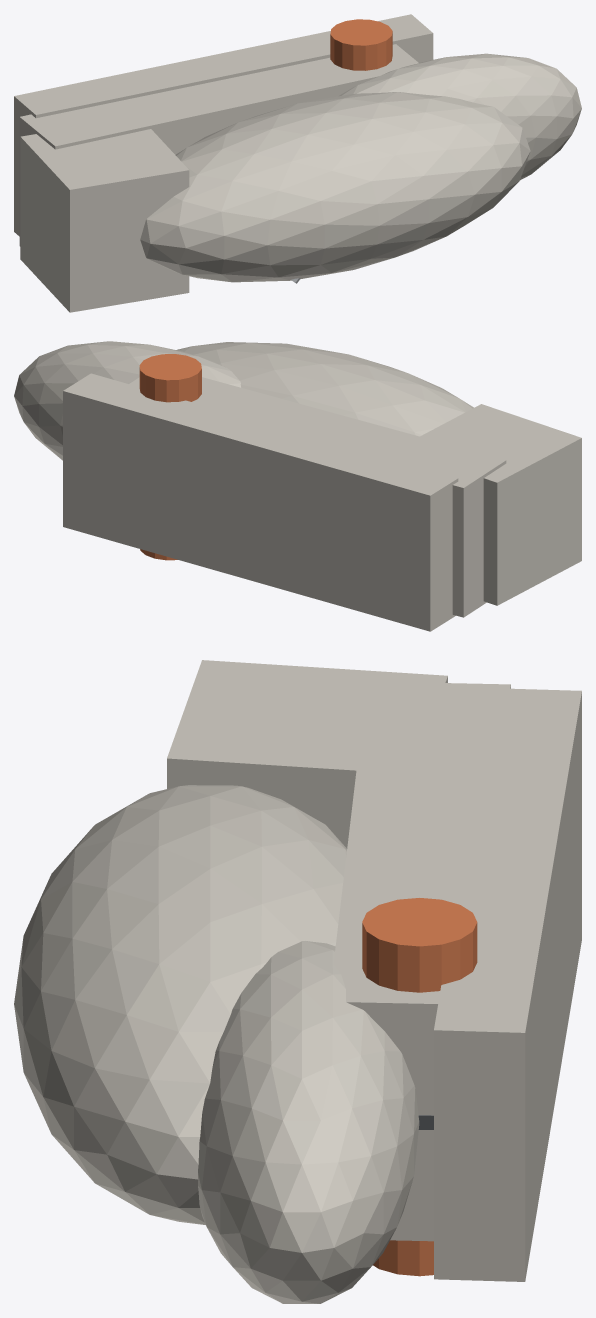
The picture shows the model from 3 angles, top to bottom: view 1: azimuth 30°, elevation 25°; view 2: azimuth 150°, elevation 25°; view 3: azimuth 270°, elevation 25°; orthographic projection. The views are drawn at different scales.
Parts seen in each view (by area): view 1: geometry_0; view 2: geometry_0; view 3: geometry_0.
Boxes of the visible parts, x1,y1,x2,y2 form: geometry_0: (14,14,581,312); geometry_0: (14,341,581,631); geometry_0: (14,660,581,1303).
Bounding box in the file's own units: 0.4341 × 0.139 × 0.217.
